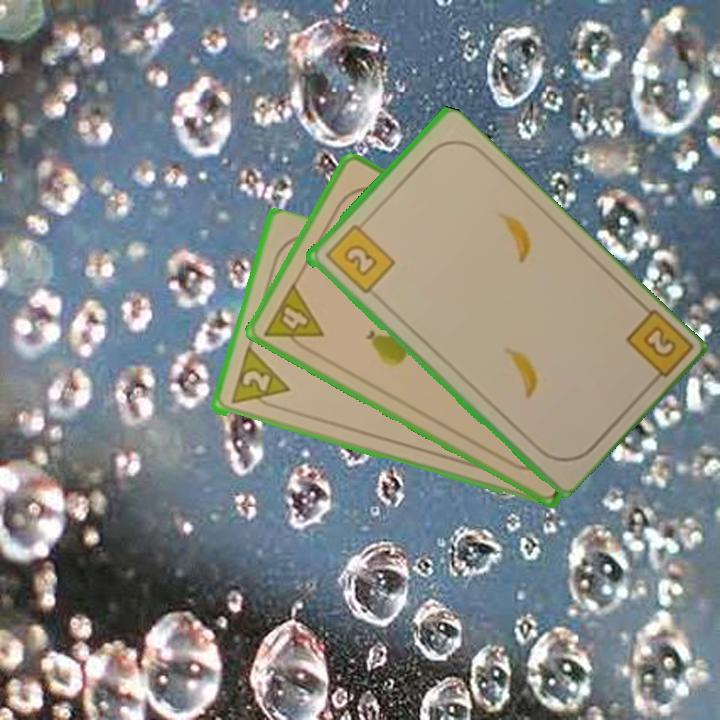2b: (321, 216, 397, 297), (621, 305, 692, 391)
2p: (226, 346, 292, 412)
4p: (260, 279, 327, 358)
